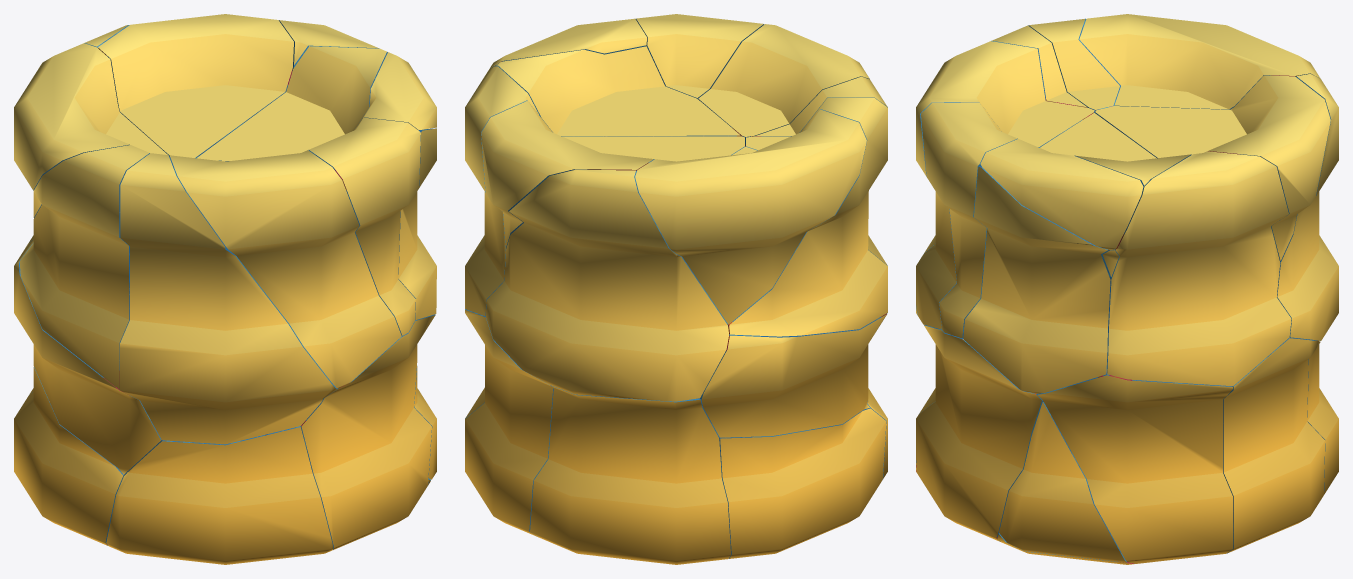
The model's file is BarrelB_broken.glb.
3 renders of one model, left to right at view 1: azimuth 30°, elevation 25°; view 2: azimuth 150°, elevation 25°; view 3: azimuth 270°, elevation 25°, orthographic.
Visible parts, largest first — view 1: Barrel_B_cell.003, Barrel_B_cell.014, Barrel_B_cell.019, Barrel_B_cell, Barrel_B_cell.004, Barrel_B_cell.009, Barrel_B_cell.001, Barrel_B_cell.012, Barrel_B_cell.016, Barrel_B_cell.017, Barrel_B_cell.015, Barrel_B_cell.006 (+3 smaller); view 2: Barrel_B_cell.013, Barrel_B_cell.010, Barrel_B_cell.001, Barrel_B_cell.017, Barrel_B_cell.004, Barrel_B_cell.015, Barrel_B_cell.016, Barrel_B_cell, Barrel_B_cell.002, Barrel_B_cell.014, Barrel_B_cell.012, Barrel_B_cell.011 (+2 smaller); view 3: Barrel_B_cell.011, Barrel_B_cell.005, Barrel_B_cell.006, Barrel_B_cell.009, Barrel_B_cell.002, Barrel_B_cell.001, Barrel_B_cell, Barrel_B_cell.014, Barrel_B_cell.007, Barrel_B_cell.012, Barrel_B_cell.018, Barrel_B_cell.013 (+4 smaller).
Part boxes in pixels (x1,y1,x2,y2): Barrel_B_cell.003: (120,153,337,444); Barrel_B_cell.014: (169,150,401,388); Barrel_B_cell.019: (106,426,333,564); Barrel_B_cell: (97,14,293,158); Barrel_B_cell.004: (19,145,149,389); Barrel_B_cell.009: (300,314,435,549); Barrel_B_cell.001: (14,43,167,217); Barrel_B_cell.012: (308,117,420,335); Barrel_B_cell.016: (197,46,387,161); Barrel_B_cell.017: (14,367,126,545); Barrel_B_cell.015: (14,240,161,474); Barrel_B_cell.006: (398,128,436,319); Barrel_B_cell.013: (486,169,728,401); Barrel_B_cell.010: (530,385,730,564); Barrel_B_cell.001: (635,109,866,324); Barrel_B_cell.017: (718,408,886,558); Barrel_B_cell.004: (727,98,887,336); Barrel_B_cell.015: (699,313,886,437); Barrel_B_cell.016: (496,46,740,136); Barrel_B_cell: (481,101,744,248); Barrel_B_cell.002: (465,309,553,536); Barrel_B_cell.014: (698,24,869,138); Barrel_B_cell.012: (635,14,764,98); Barrel_B_cell.011: (465,66,539,316); Barrel_B_cell.011: (1107,151,1291,386); Barrel_B_cell.005: (1038,365,1232,563); Barrel_B_cell.006: (963,166,1110,393); Barrel_B_cell.009: (916,325,1043,541); Barrel_B_cell.002: (1223,338,1325,553); Barrel_B_cell.001: (1079,14,1320,109); Barrel_B_cell: (1095,75,1330,261); Barrel_B_cell.014: (916,41,1094,329); Barrel_B_cell.007: (999,402,1127,562); Barrel_B_cell.012: (921,102,1017,338); Barrel_B_cell.018: (980,139,1143,249); Barrel_B_cell.013: (1277,74,1338,340).
Bounding box in the file's own units: 1 × 1 × 1.
1 material, 1 textured.
